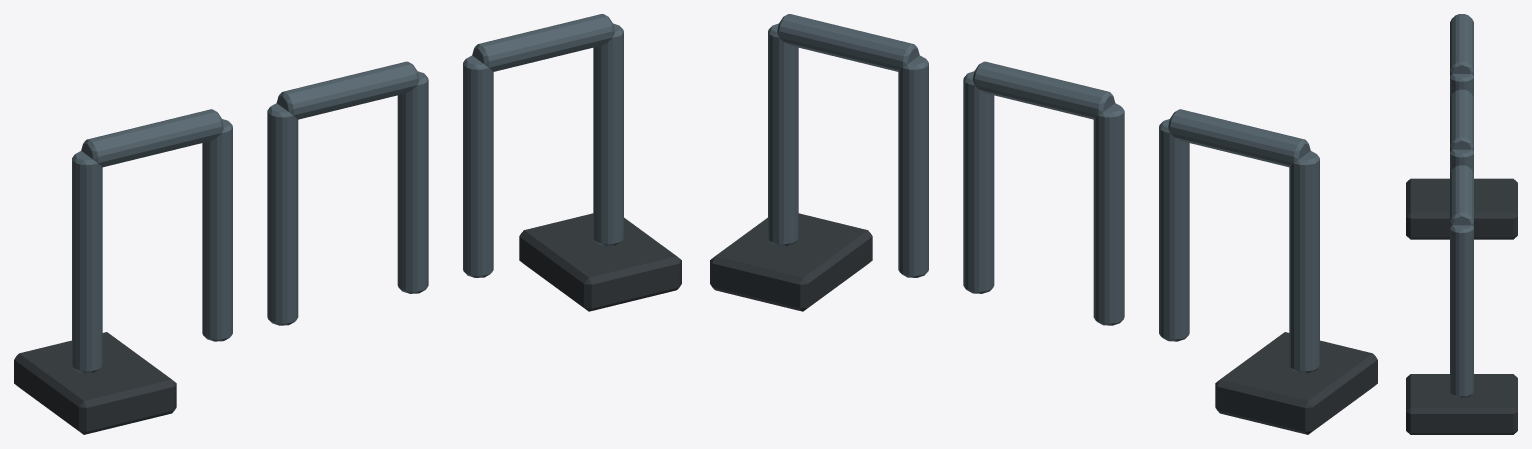
The model's file is PRP_CITY_024_bicycle_parking_rack.glb.
The picture shows the model from 3 angles, left to right: view 1: azimuth 30°, elevation 25°; view 2: azimuth 150°, elevation 25°; view 3: azimuth 270°, elevation 25°; orthographic projection. The views are drawn at different scales.
Parts seen in each view (by area): view 1: PRP_CITY_024_bicycle_parking_rack_RenderMesh; view 2: PRP_CITY_024_bicycle_parking_rack_RenderMesh; view 3: PRP_CITY_024_bicycle_parking_rack_RenderMesh.
Boxes of the visible parts, x1,y1,x2,y2 form: PRP_CITY_024_bicycle_parking_rack_RenderMesh: [14, 14, 681, 434]; PRP_CITY_024_bicycle_parking_rack_RenderMesh: [710, 14, 1377, 434]; PRP_CITY_024_bicycle_parking_rack_RenderMesh: [1406, 14, 1517, 434].
Size of the model in its own units: 1.48 by 0.6119 by 0.3.
